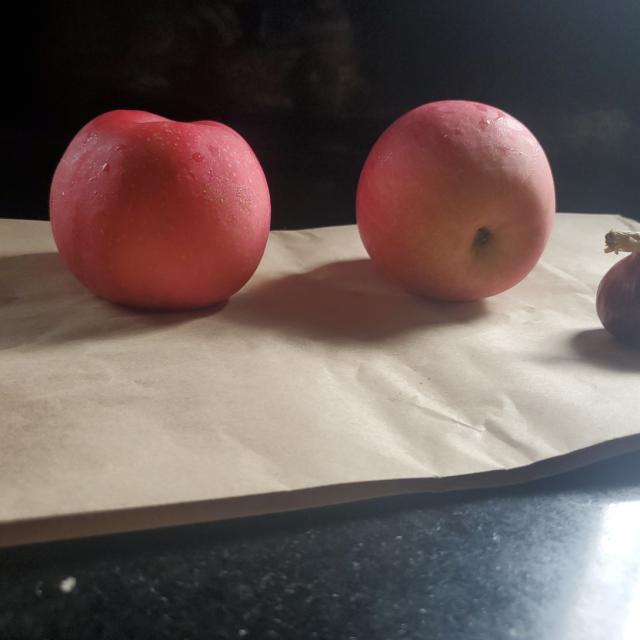apple: (46, 109, 268, 308), (354, 96, 555, 297)
onion: (594, 228, 640, 350)
